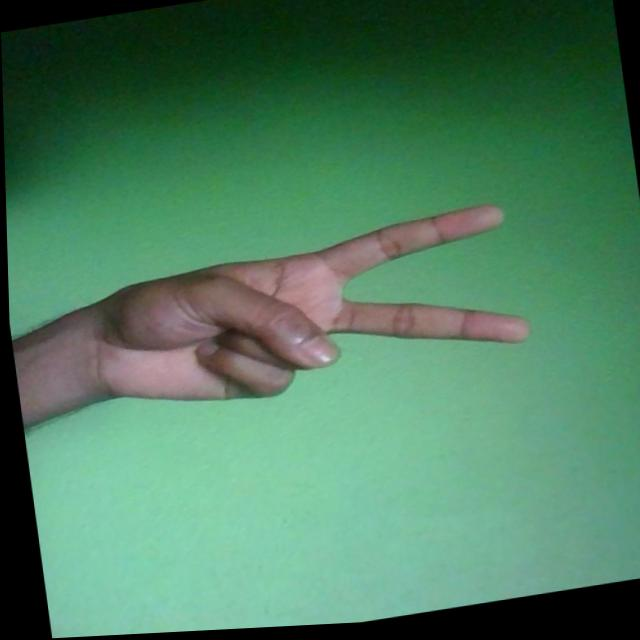Peace: (61, 205, 532, 428)
